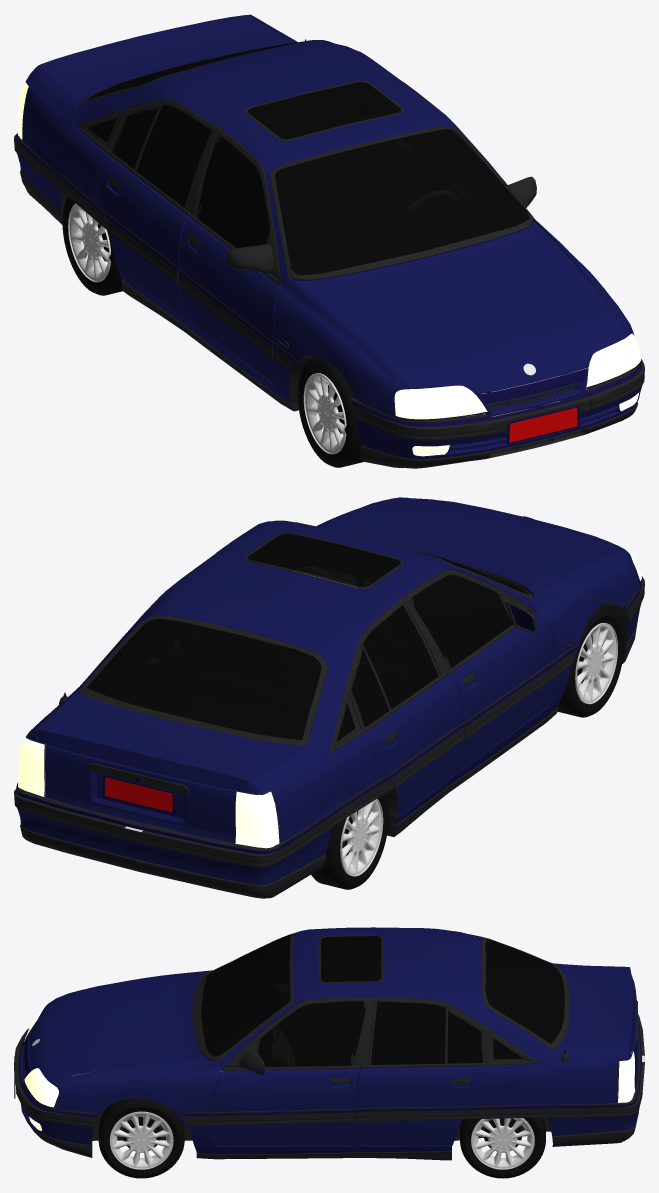
Rendered from Omega.glb.
The picture shows the model from 3 angles, top to bottom: view 1: azimuth 30°, elevation 25°; view 2: azimuth 150°, elevation 25°; view 3: azimuth 270°, elevation 25°; orthographic projection. The views are drawn at different scales.
Parts seen in each view (by area): view 1: hd_omega_41; view 2: hd_omega_41; view 3: hd_omega_41.
Boxes of the visible parts, x1,y1,x2,y2 form: hd_omega_41: [14, 14, 644, 468]; hd_omega_41: [14, 497, 644, 898]; hd_omega_41: [14, 927, 644, 1178].
Size of the model in its own units: 2.06 by 1.43 by 4.77.
